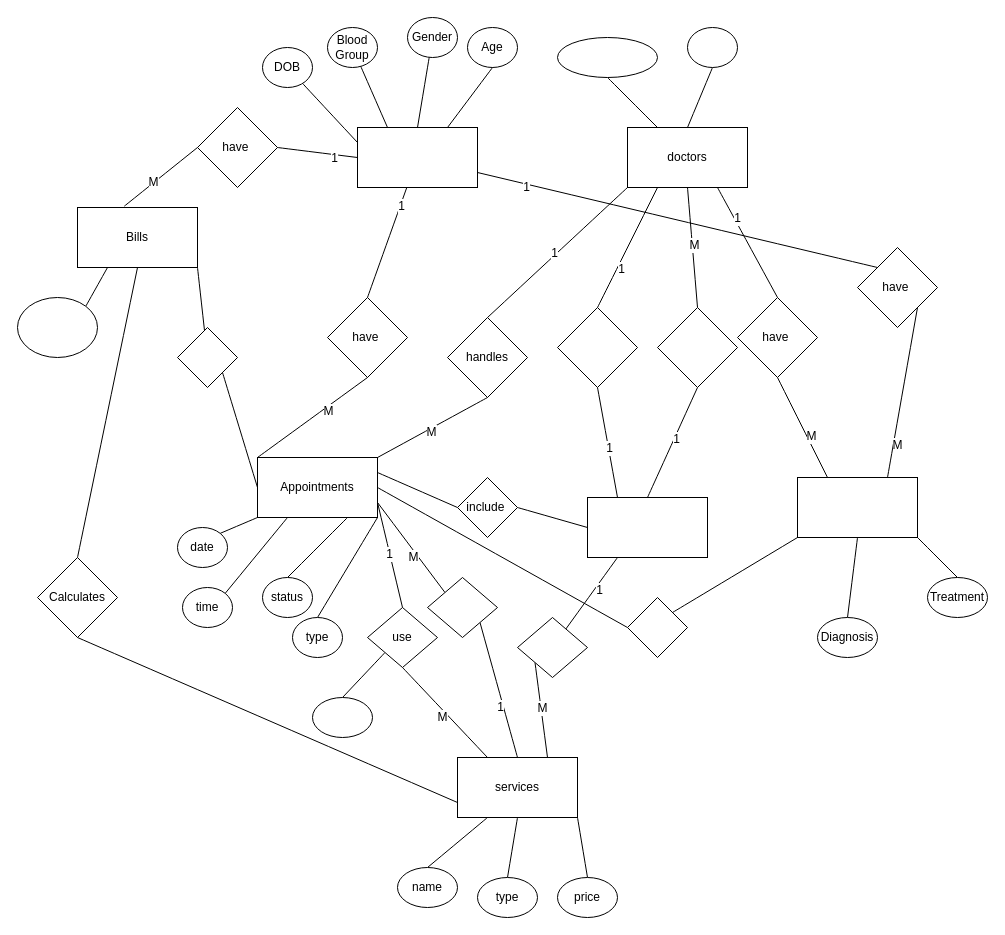
The diagram is 1005 pixels wide and 935 high, and some of its shapes have lost their labels. The centre of each missing label's shape, as x and y in pixels:
Apear: (x=462, y=607)
departments: (x=647, y=527)
details: (x=712, y=47)
Linked: (x=207, y=357)
Manage: (x=597, y=347)
offers: (x=552, y=647)
patients: (x=417, y=157)
Payment Details: (x=57, y=327)
Records: (x=857, y=507)
result: (x=657, y=627)
specialization: (x=607, y=57)
Times Used: (x=342, y=717)
works: (x=697, y=347)
